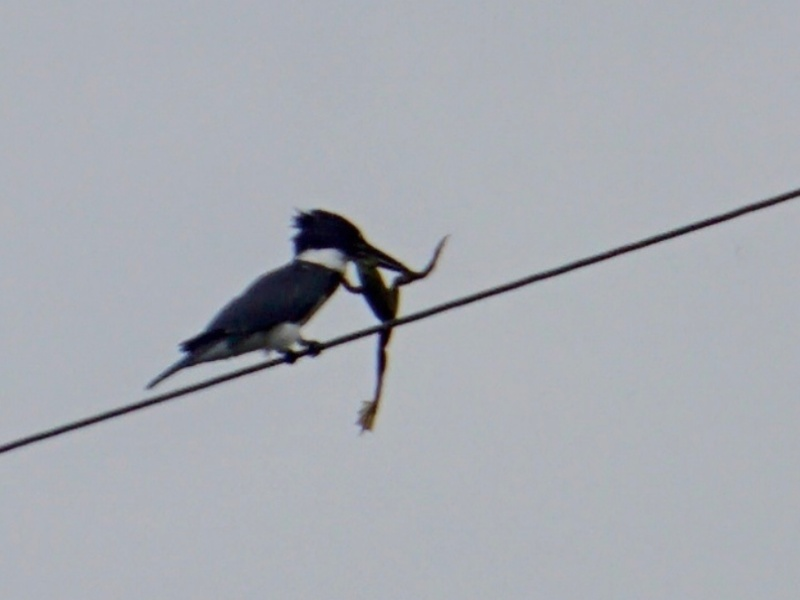kingfisher: (144, 200, 417, 398)
